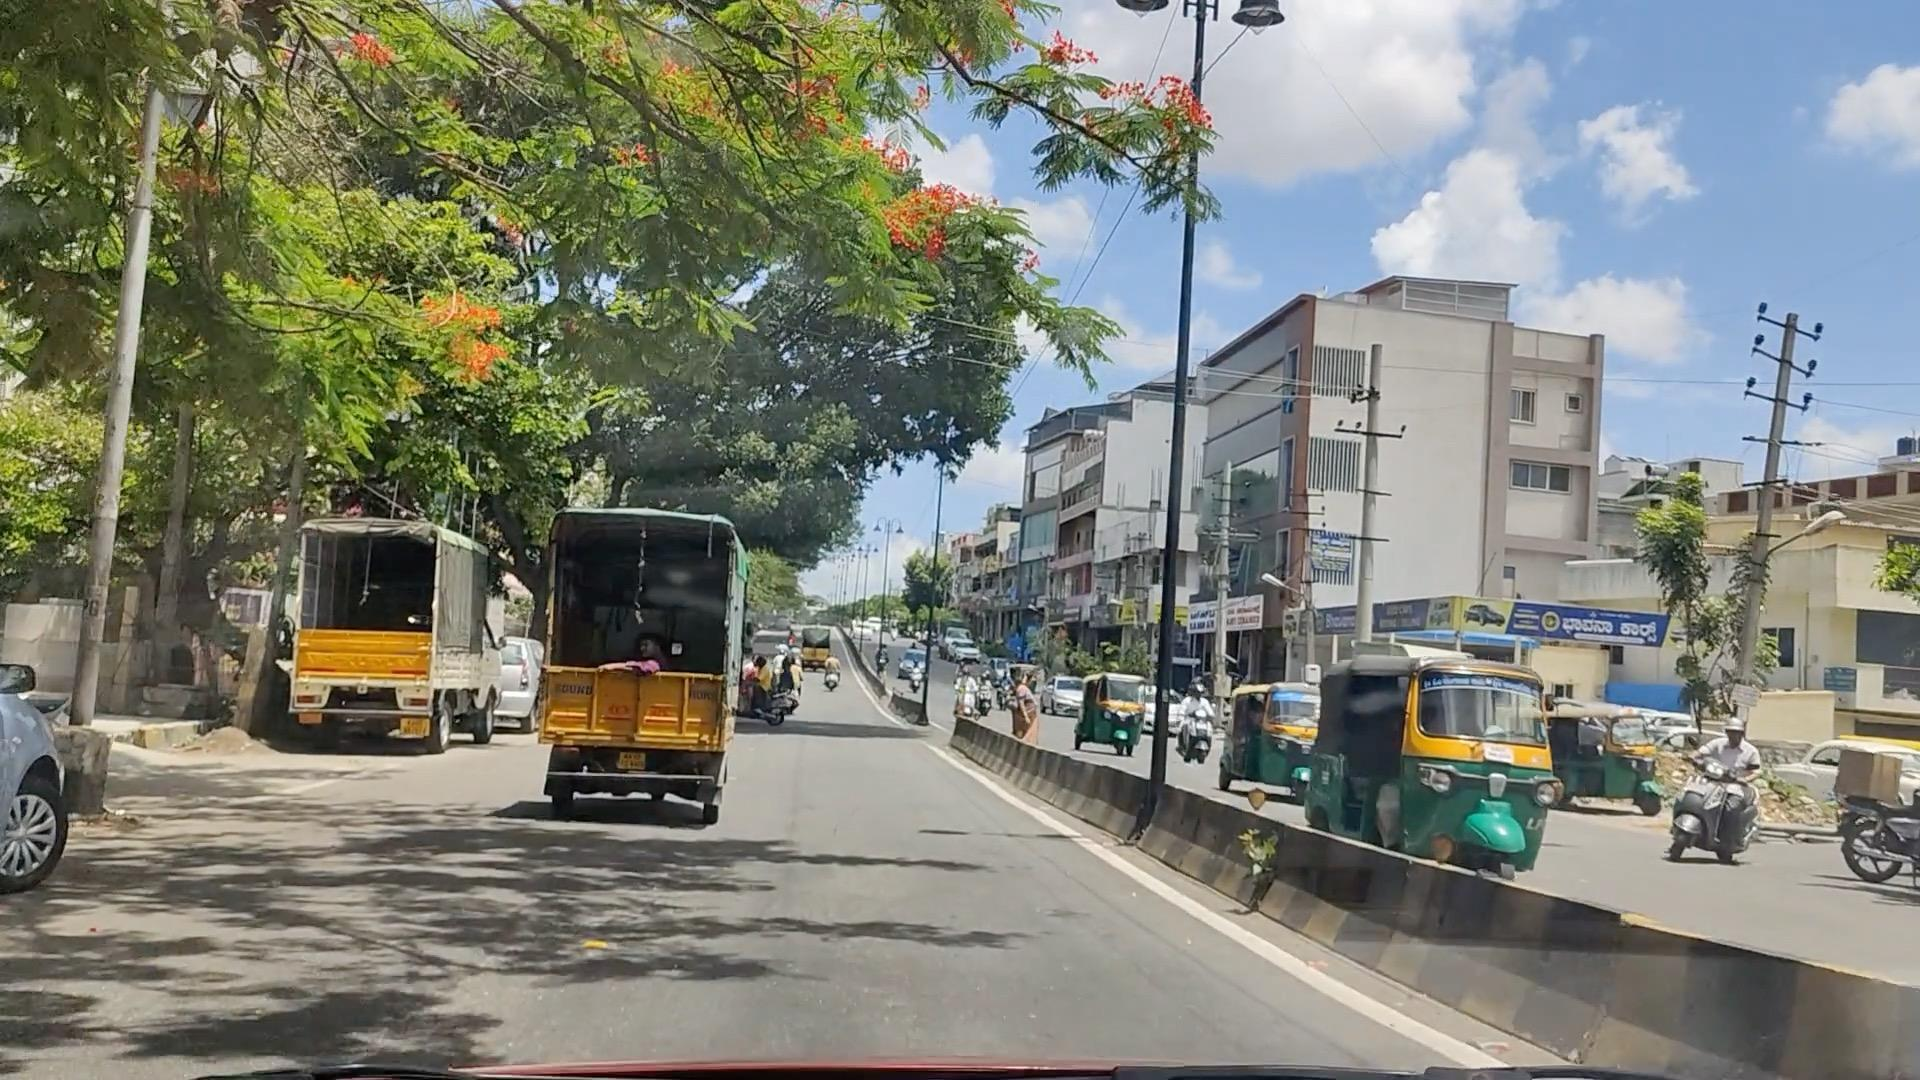HMV: (551, 520, 750, 786), (299, 524, 463, 729)
